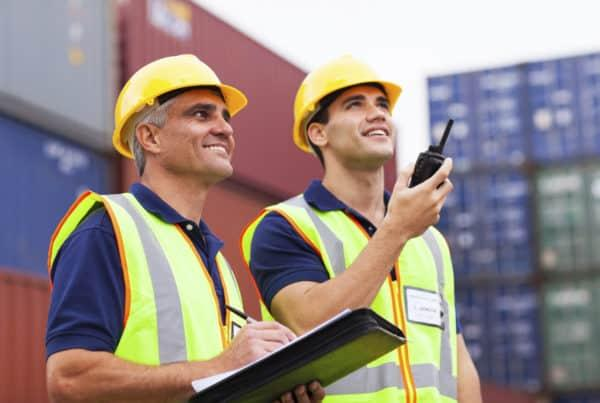helmet: (113, 55, 246, 154), (295, 54, 406, 150)
